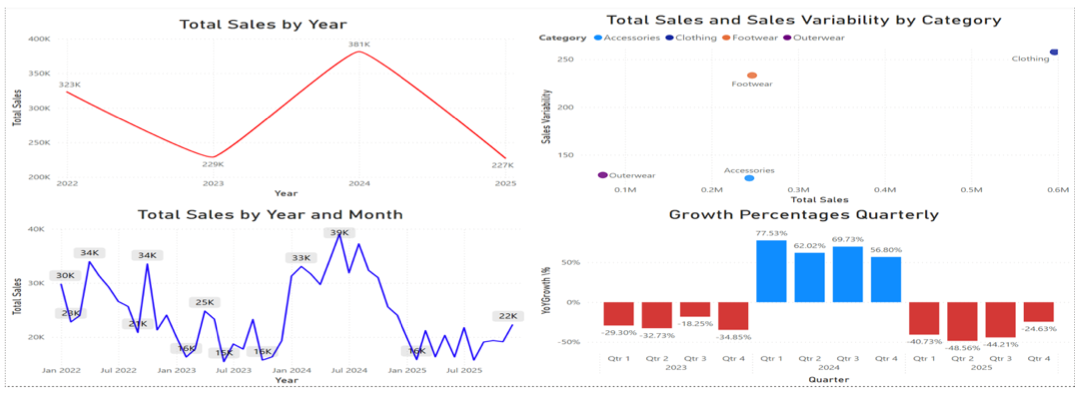

The page's visual inventory and layout, read from the dashboard file:
{"tool":"powerbi","page":{"name":"Sales & Variability Analysis","canvas":[1280,720],"ordinal":0},"visuals":[{"type":"lineChart","fields":{"Category":["DateTable.Date.Variation.Date Hierarchy.Year"],"Y":["RetailTable.Total Sales"]},"box":[0,20.6,617,347.4],"z":0},{"type":"scatterChart","fields":{"X":["RetailTable.Total Sales"],"Y":["RetailTable.Sales Variability"],"Series":["RetailTable.Category"]},"box":[634.4,12.7,645.6,368],"z":1000},{"type":"lineChart","fields":{"Y":["RetailTable.Total Sales"],"Category":["DateTable.Date.Variation.Date Hierarchy.Year","DateTable.Date.Variation.Date Hierarchy.Month"]},"box":[0,380.7,634.4,341],"z":2000},{"type":"clusteredColumnChart","title":"Growth Percentages Quarterly","fields":{"Y":["RetailTable.YoYGrowth \\%"],"Category":["DateTable.Date.Variation.Date Hierarchy.Year","DateTable.Date.Variation.Date Hierarchy.Quarter"]},"box":[634.4,380.7,645.6,339.4],"z":3000}]}

Visuals, with their boxes on the page's 1280x720 design canvas (x1, y1, x2, y2). These are canvas units, not pixel positions in the 1080x395 screenshot, which may show the page scaled, cropped or inside an application window:
lineChart - DateTable.Date.Variation.Date Hierarchy.Year x RetailTable.Total Sales: (0, 21, 617, 368)
scatterChart - RetailTable.Total Sales x RetailTable.Sales Variability: (634, 13, 1280, 381)
lineChart - RetailTable.Total Sales x DateTable.Date.Variation.Date Hierarchy.Year: (0, 381, 634, 722)
"Growth Percentages Quarterly" clusteredColumnChart: (634, 381, 1280, 720)
